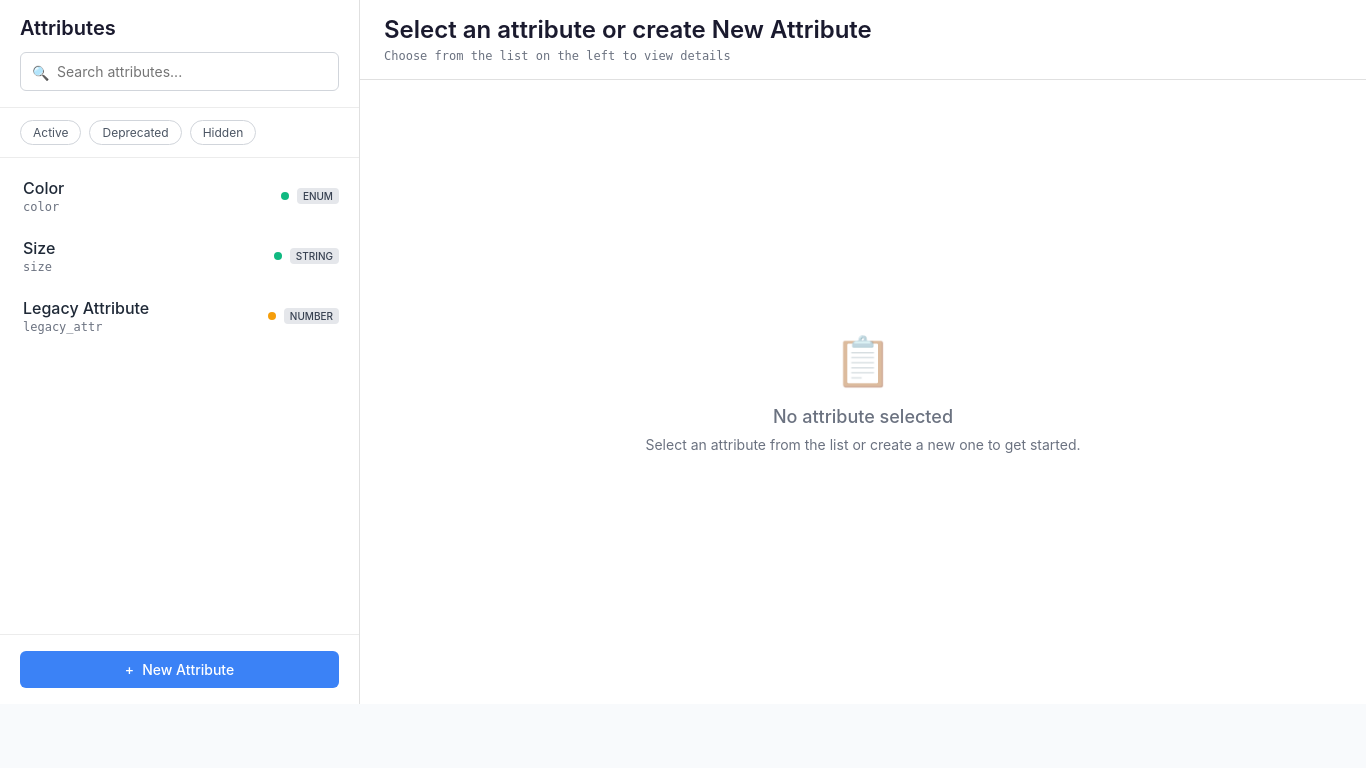
AttributesConsole Shell › renders tabs and switches between them
// Select an attribute first
Click the option with test id "list-item-color". click: (44, 188)
box: [0,166,359,226]
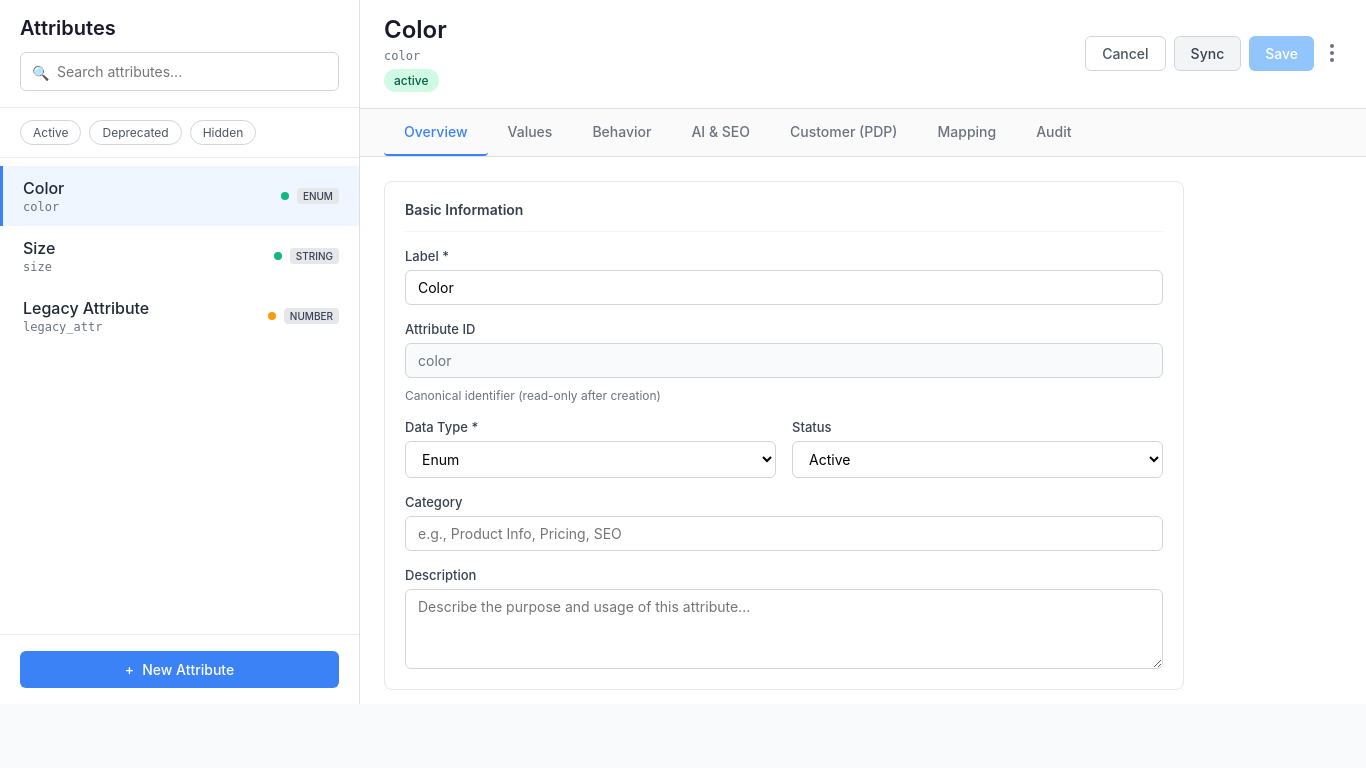
Check: the tab with test id "tab-overview" is shown, box [384,109,488,156]
Check: the tab with test id "tab-values" is shown
Check: the tab with test id "tab-behavior" is shown, box [572,109,671,156]
// Click Values tab
Click the tab with test id "tab-values". click: (530, 132)
box: [488,109,572,156]
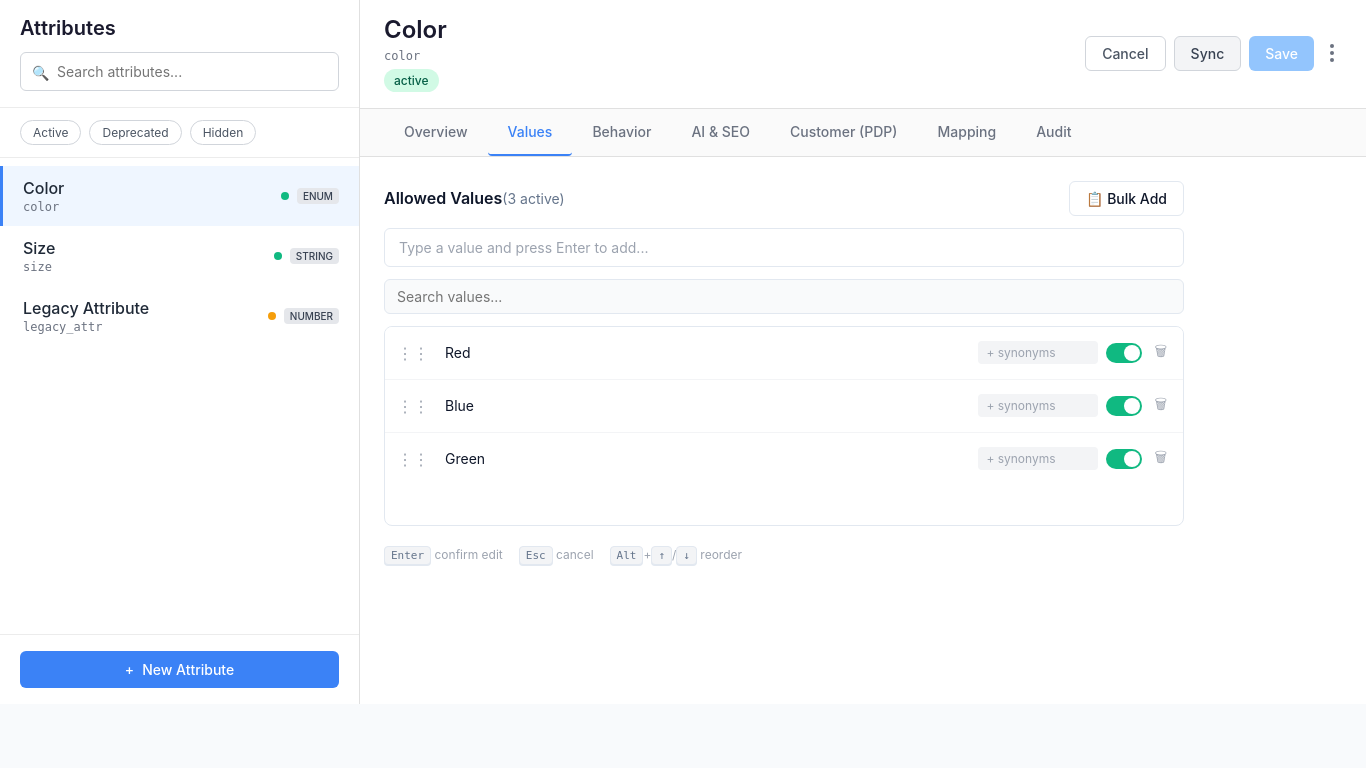
Check: the element with test id "tab-panel-values" is shown, box [384,181,1184,565]
